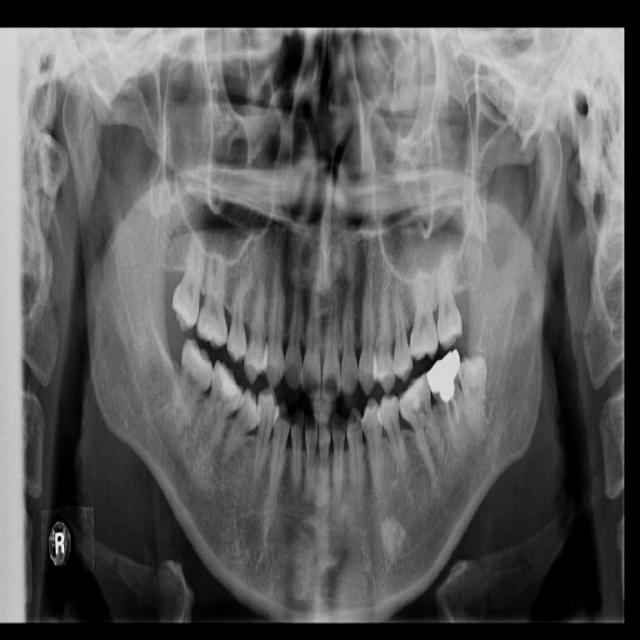Filling: (425, 352, 463, 402), (403, 376, 428, 409), (220, 366, 242, 402)
Periapical lesion: (213, 436, 249, 473), (190, 425, 200, 444), (207, 433, 212, 449)
Root Canal Treatment: (443, 400, 456, 438), (451, 398, 459, 428)
impacted tooth: (459, 351, 485, 440)
